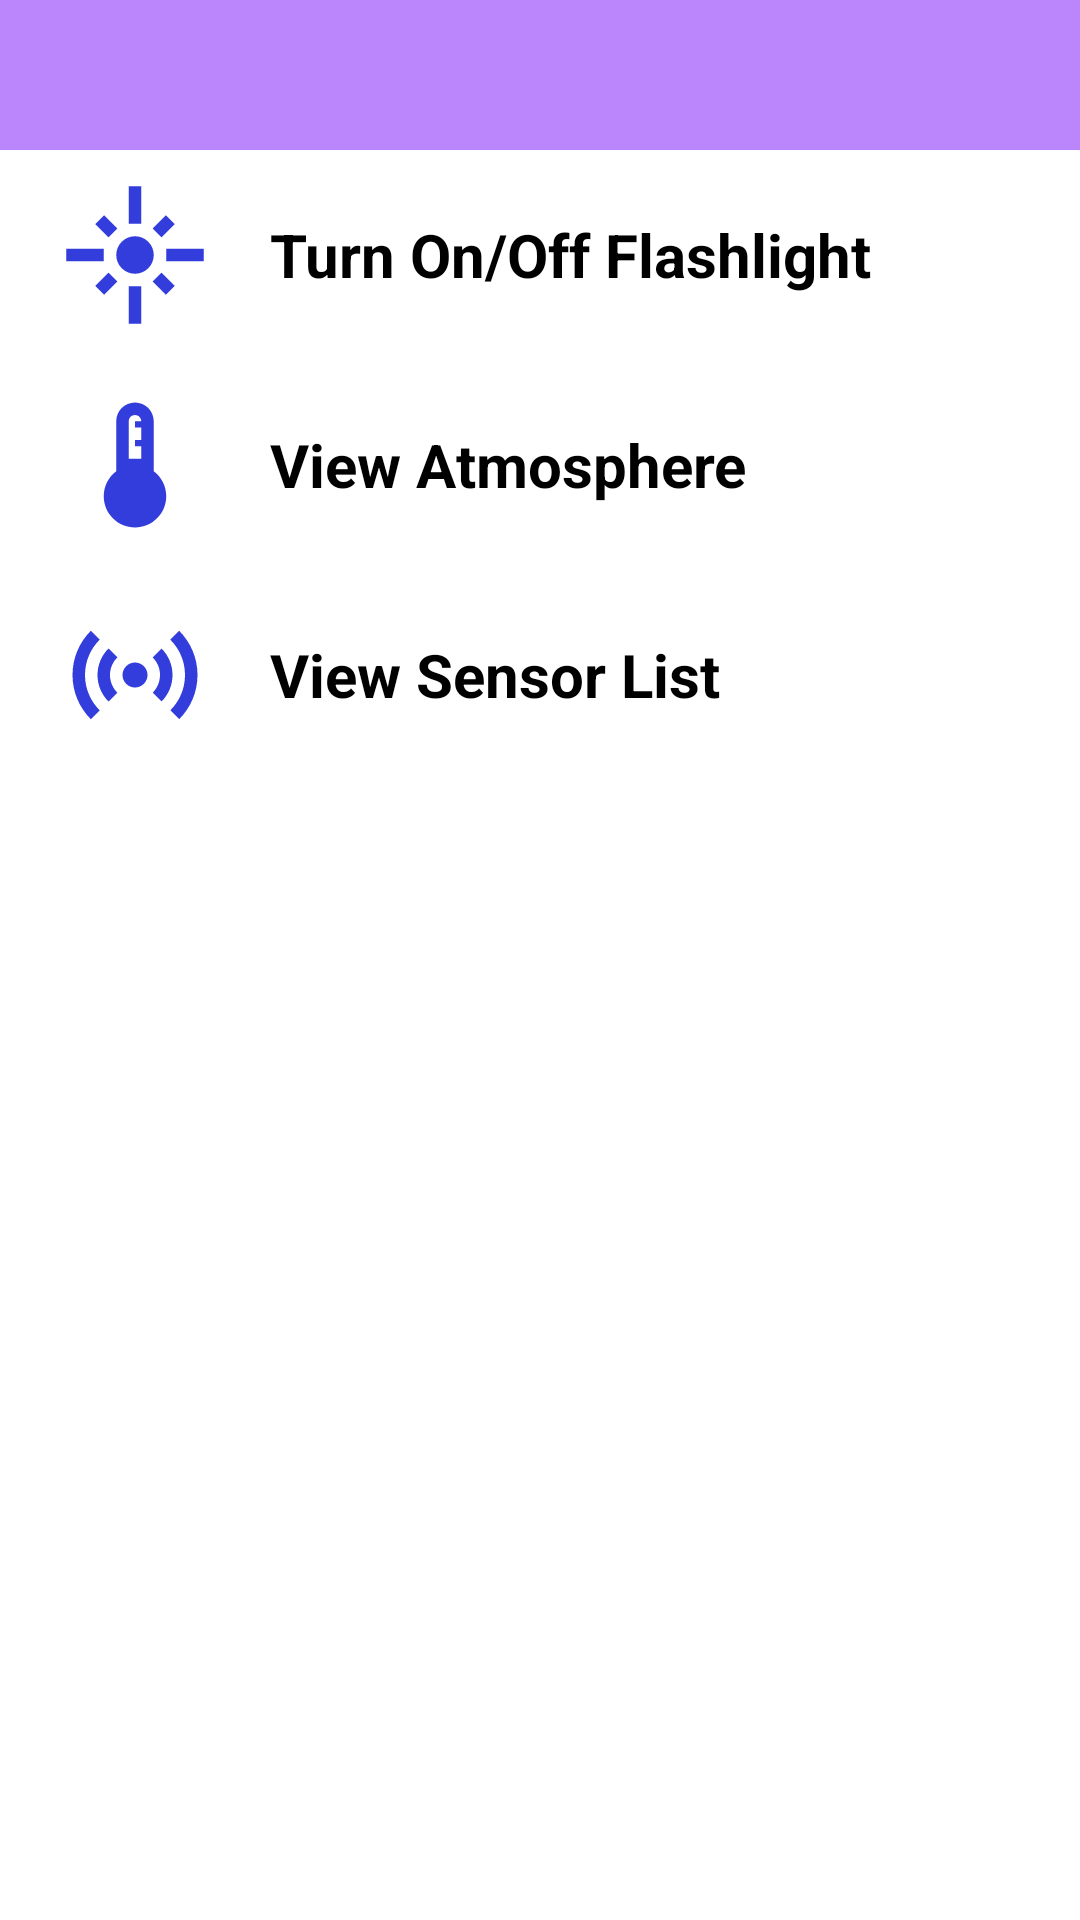

Icon bounding boxes for this 1080px×1920px phone screenshot, format (x1, y1, x2, y2):
sensors: (72, 631, 198, 719)
thermometer: (103, 402, 167, 528)
